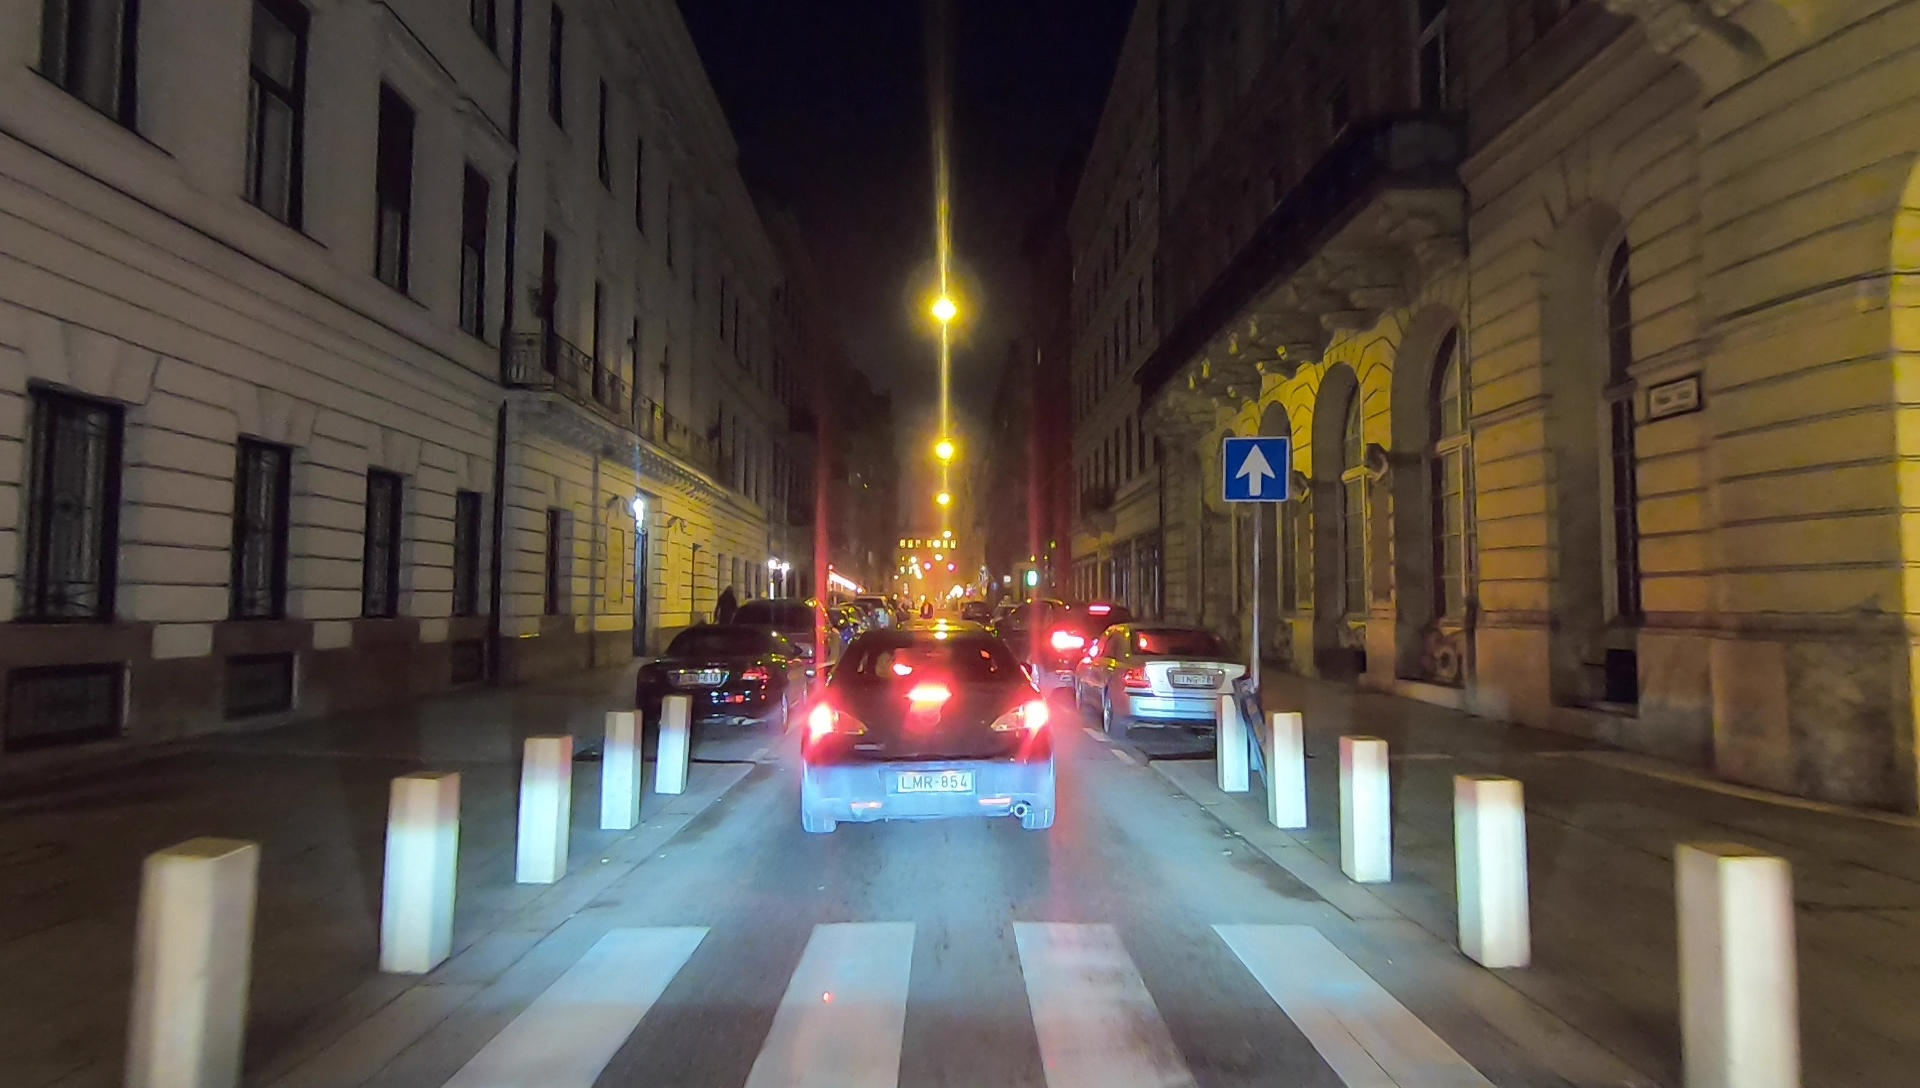person: (712, 587, 736, 628)
